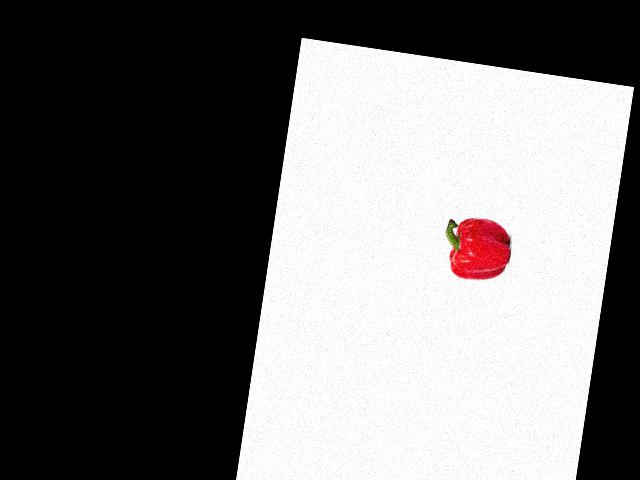bell_pepper: (437, 211, 514, 288)
